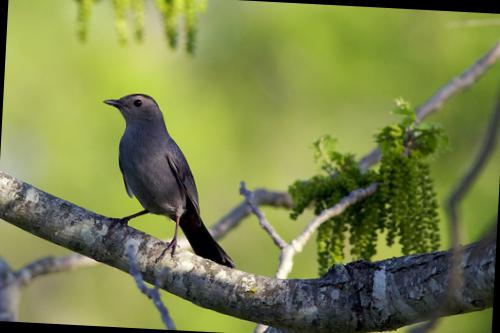bird: (85, 82, 247, 274)
